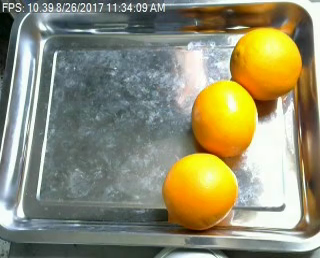Orange: (164, 152, 240, 231), (230, 27, 301, 102), (190, 79, 257, 157)
